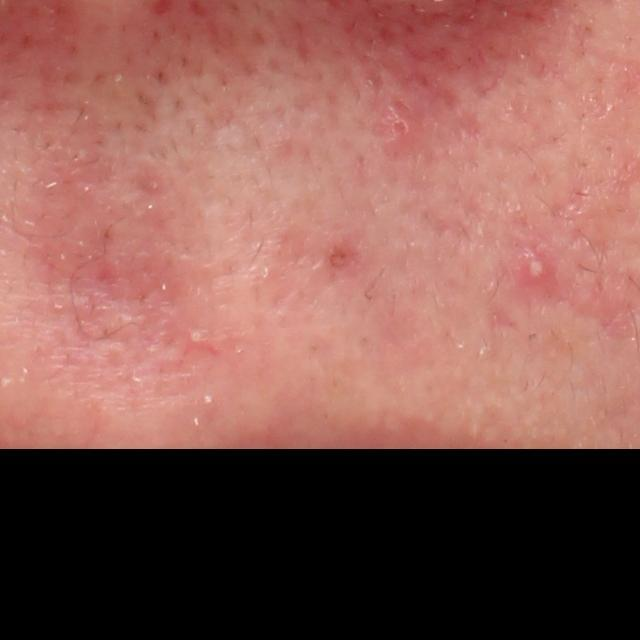pustule: (516, 247, 563, 287)
